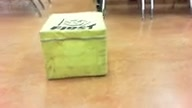cube: (39, 11, 106, 80)
